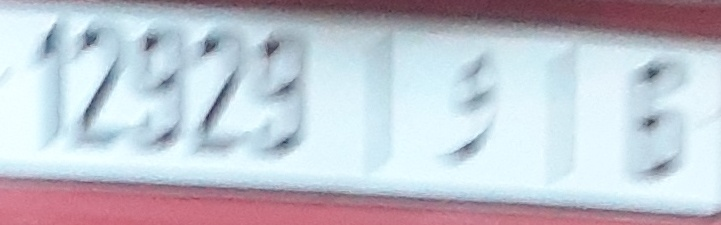1: (34, 17, 69, 148)
2: (188, 29, 249, 151), (71, 23, 125, 148)
6: (620, 51, 684, 178)
9: (248, 30, 309, 160), (130, 22, 187, 153)
waw: (433, 47, 503, 174)
